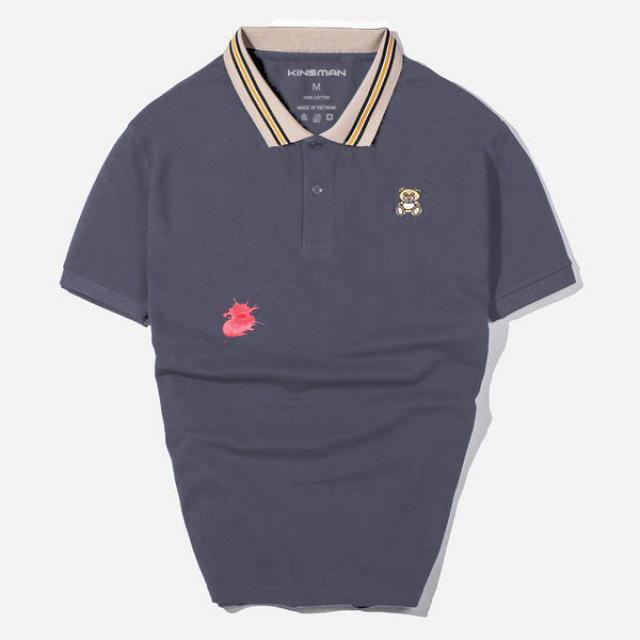stain: (212, 296, 264, 347)
